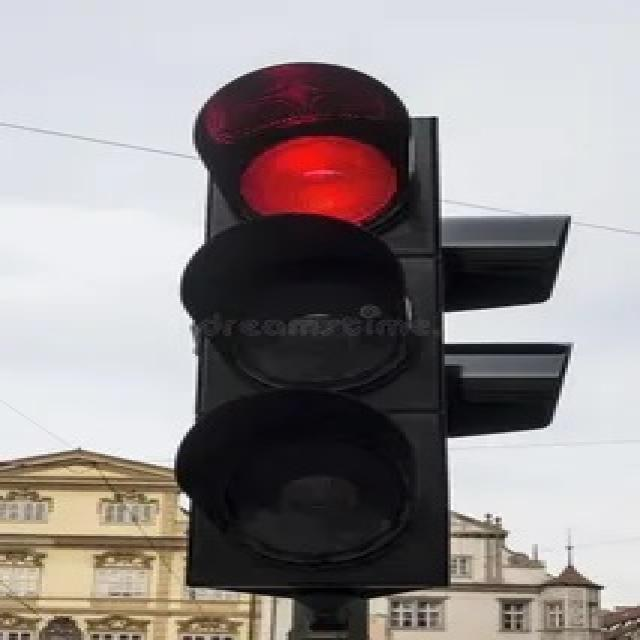kirmizi: (173, 63, 449, 587)
